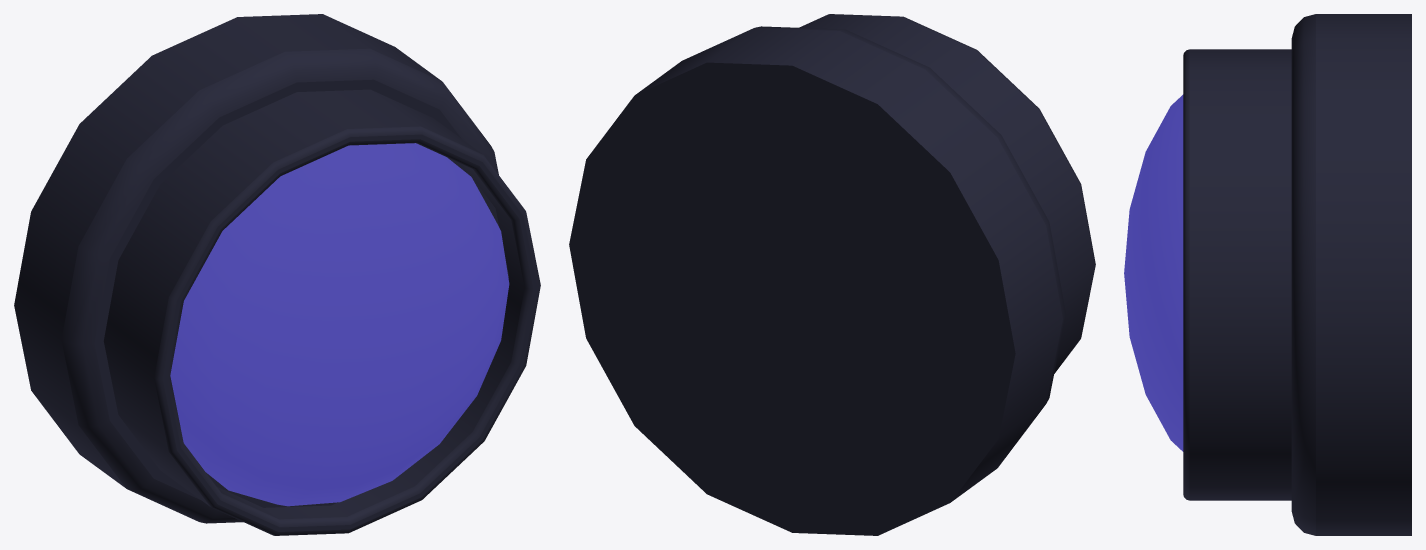
Rendered from Lampe_1.fbx.
The picture shows the model from 3 angles, left to right: view 1: azimuth 30°, elevation 25°; view 2: azimuth 150°, elevation 25°; view 3: azimuth 270°, elevation 25°; orthographic projection.
Parts seen in each view (by area): view 1: Lampe; view 2: Lampe; view 3: Lampe.
Boxes of the visible parts, x1=… form: Lampe: x1=14, y1=14, x2=540, y2=535; Lampe: x1=569, y1=14, x2=1095, y2=535; Lampe: x1=1124, y1=14, x2=1411, y2=535.
Bounding box in the file's own units: 116 × 116 × 63.74.
